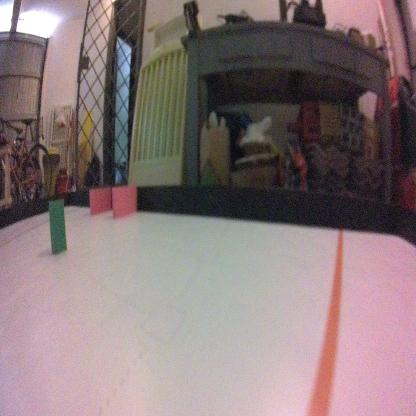green: (46, 197, 68, 253)
magenta: (112, 182, 136, 224), (88, 183, 111, 218)
